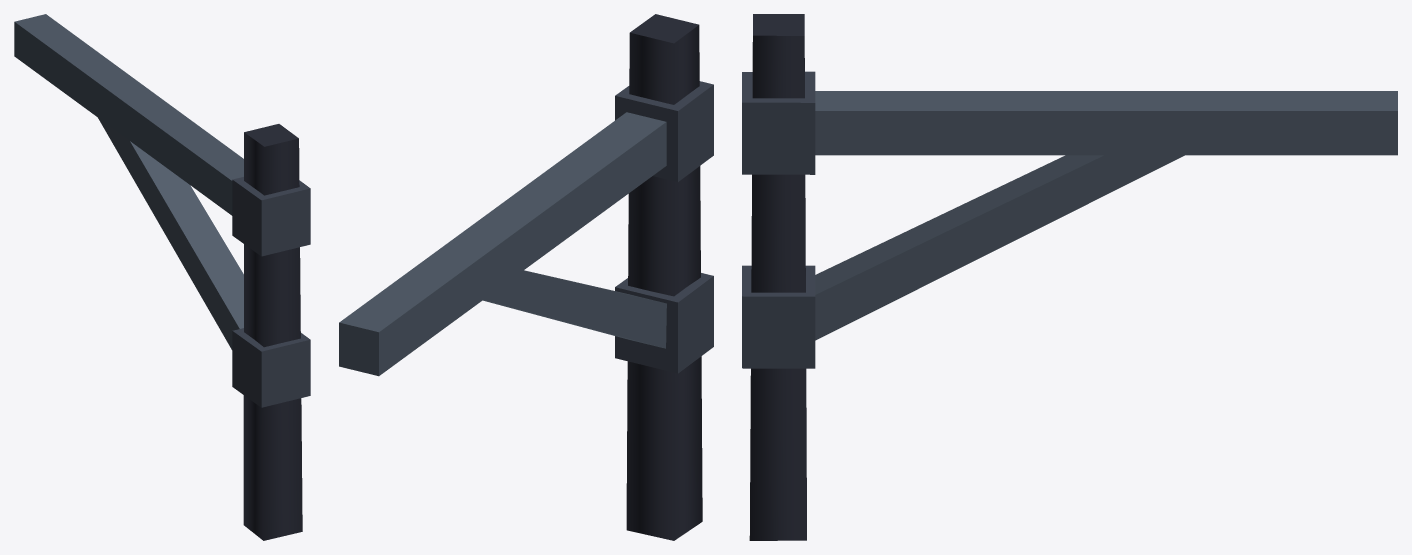
File: SignHolder_6_E.fbx
3 views of the same model, side by side, from view 1: azimuth 30°, elevation 25°; view 2: azimuth 150°, elevation 25°; view 3: azimuth 270°, elevation 25° (orthographic). The views are drawn at different scales.
Visible parts, largest first — view 1: SignHolder_6_E; view 2: SignHolder_6_E; view 3: SignHolder_6_E.
Part boxes in pixels (bbox=[...]): SignHolder_6_E: bbox=[14, 14, 310, 540]; SignHolder_6_E: bbox=[339, 14, 713, 540]; SignHolder_6_E: bbox=[742, 14, 1397, 540].
Bounding box in the file's own units: 7.8 × 58.7 × 69.26.
